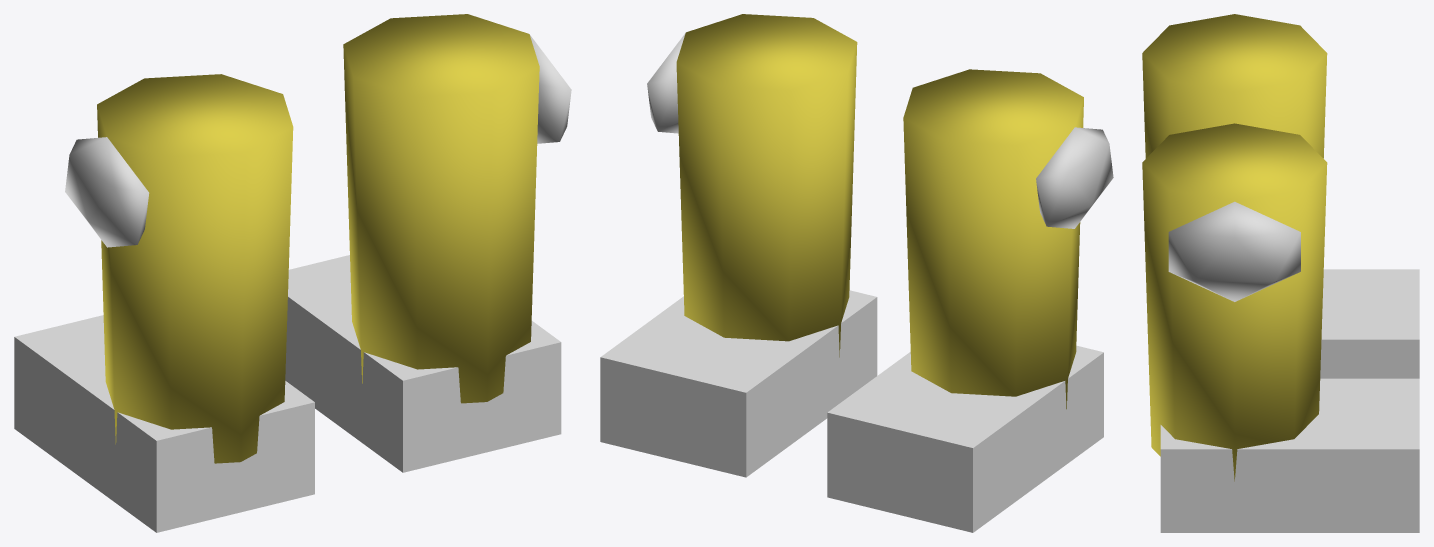
The model's file is lightning_boots.glb.
3 views of the same model, side by side, from view 1: azimuth 30°, elevation 25°; view 2: azimuth 150°, elevation 25°; view 3: azimuth 270°, elevation 25° (orthographic). The views are drawn at different scales.
Parts seen in each view (by area): view 1: lightning_boots_v0; view 2: lightning_boots_v0; view 3: lightning_boots_v0.
Boxes of the visible parts, x1=… form: lightning_boots_v0: x1=14, y1=14, x2=571, y2=532; lightning_boots_v0: x1=600, y1=14, x2=1113, y2=532; lightning_boots_v0: x1=1142, y1=14, x2=1419, y2=532.
Size of the model in its own units: 0.2615 by 0.2 by 0.15.
